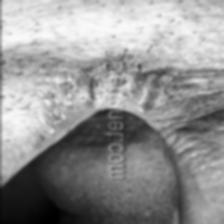Toxin: (128, 52, 224, 138), (36, 64, 102, 120)
